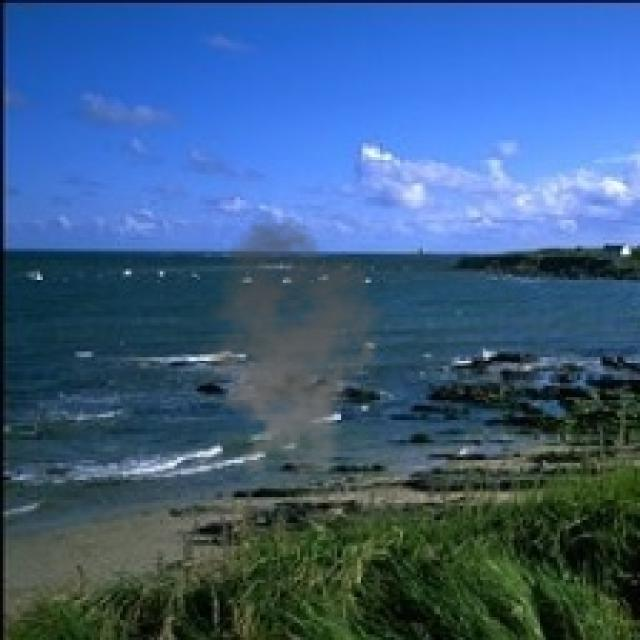smoke: (185, 217, 388, 472)
